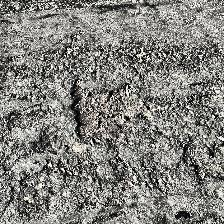pothole: (66, 76, 142, 144), (180, 139, 208, 178)
